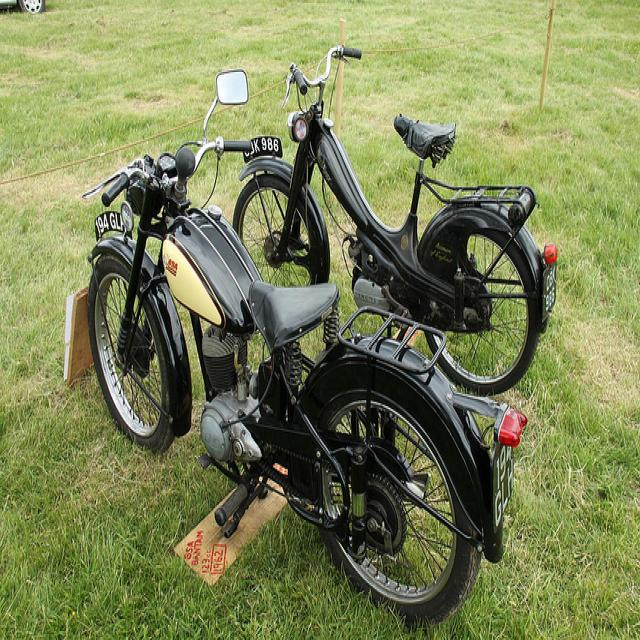motor: (86, 69, 527, 628)
